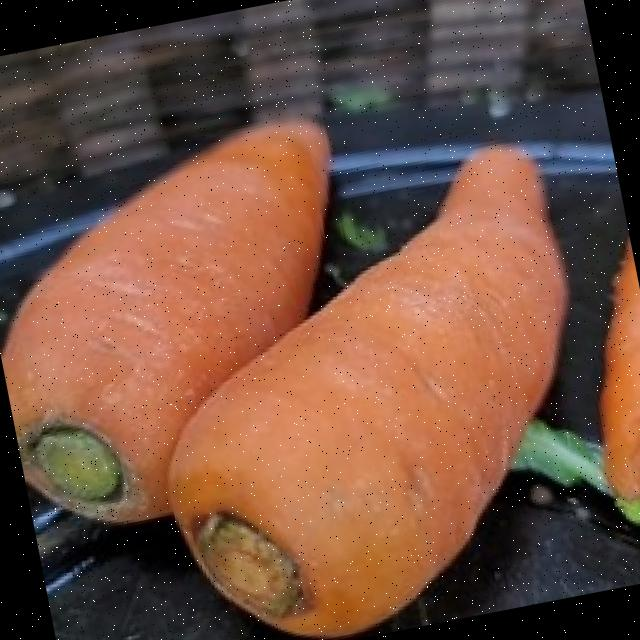carrot: (165, 146, 559, 633), (0, 120, 321, 518)
